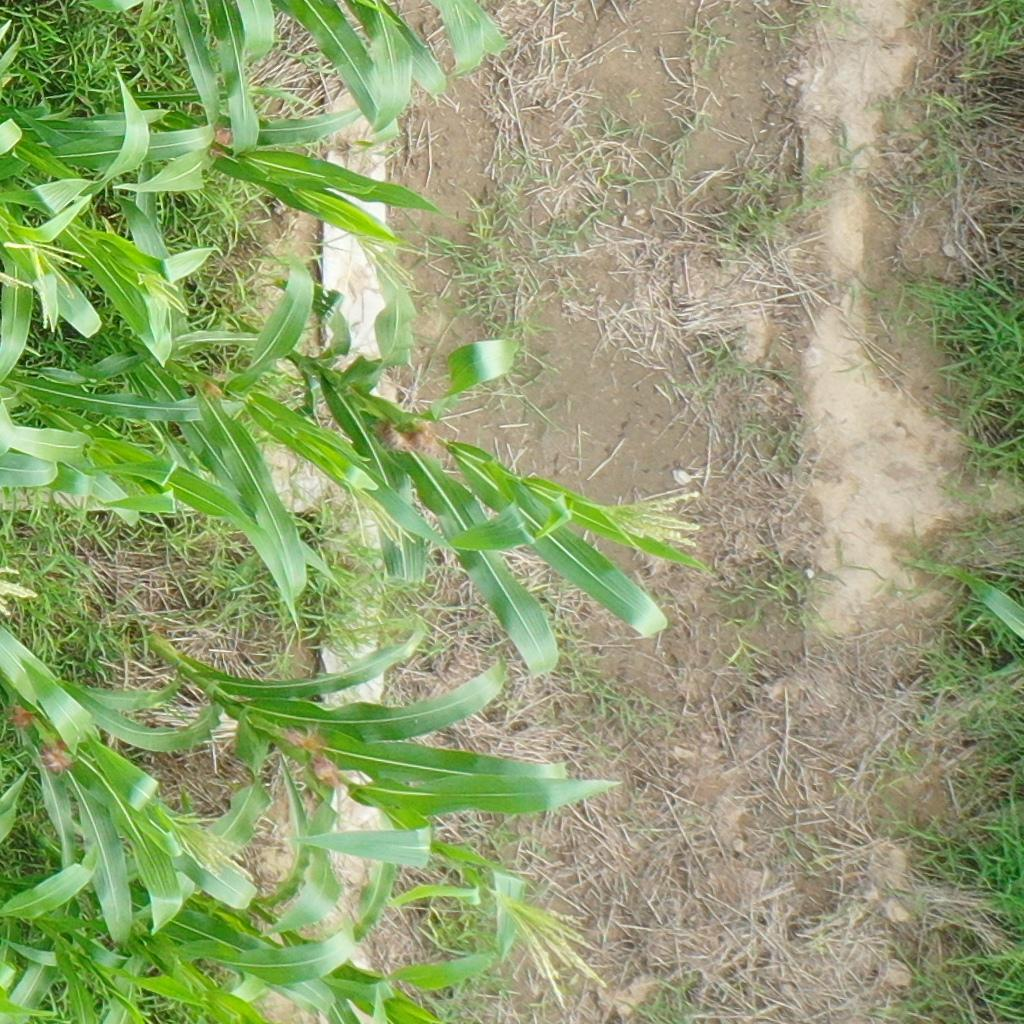Tassel: (494, 891, 609, 1011), (156, 803, 258, 887), (598, 483, 706, 557), (3, 236, 84, 326), (342, 478, 419, 556), (341, 227, 426, 294), (247, 73, 323, 119), (137, 267, 189, 315), (1, 562, 36, 619), (1, 268, 33, 295)
